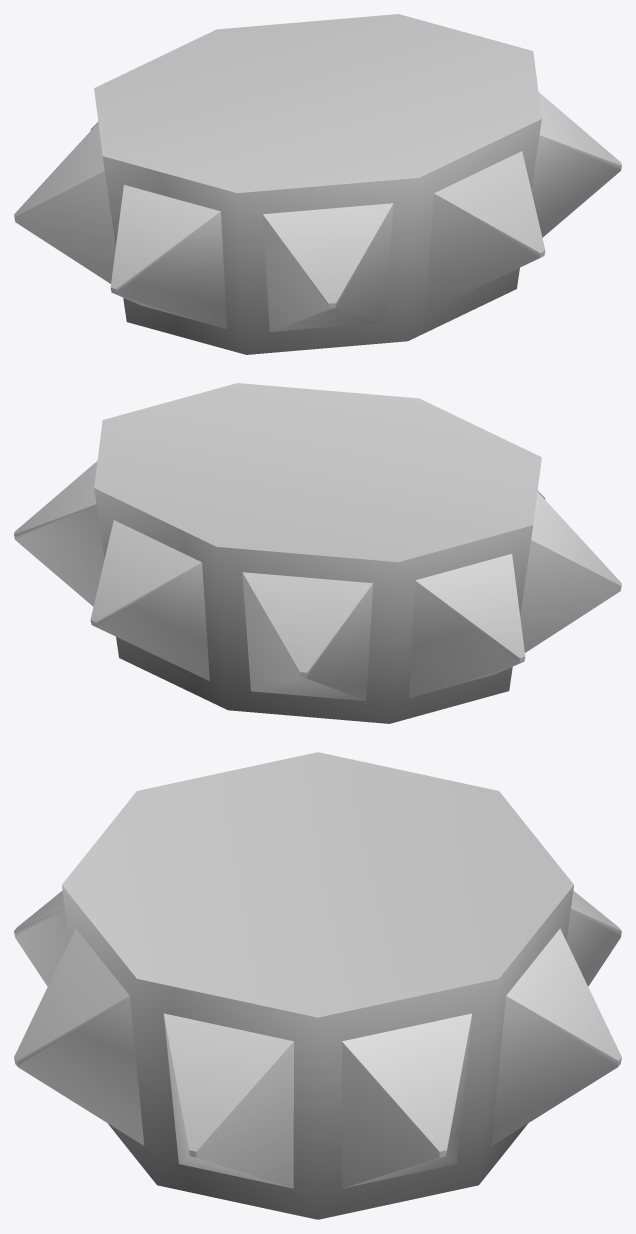
The model's file is stone_guard_043.glb.
3 renders of one model, top to bottom at view 1: azimuth 30°, elevation 25°; view 2: azimuth 150°, elevation 25°; view 3: azimuth 270°, elevation 25°, orthographic. The views are drawn at different scales.
Visible parts, largest first — view 1: stone_guard.043; view 2: stone_guard.043; view 3: stone_guard.043.
Boxes of the visible parts, box(x1,y1,x2,y2) form: stone_guard.043: box(14, 14, 621, 354); stone_guard.043: box(14, 383, 621, 723); stone_guard.043: box(14, 752, 621, 1219).
Bounding box in the file's own units: 6.23 × 2 × 5.08.
1 material, 1 textured.
